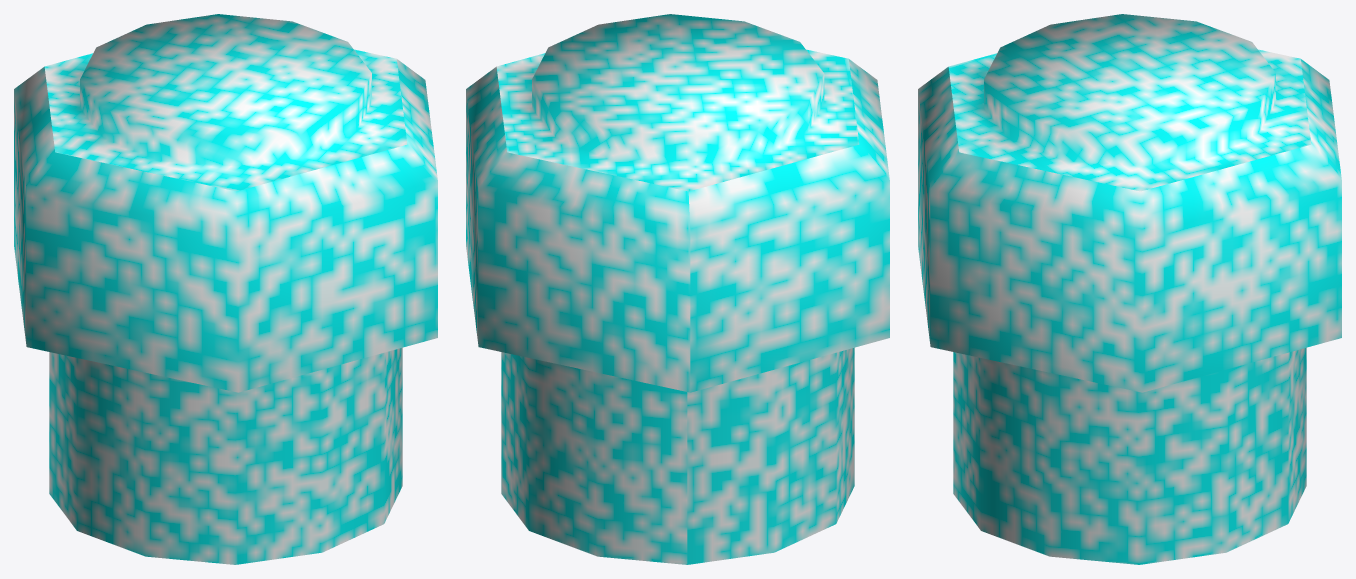
The model's file is SM_Bolt_01_HJS.fbx.
The picture shows the model from 3 angles, left to right: view 1: azimuth 30°, elevation 25°; view 2: azimuth 150°, elevation 25°; view 3: azimuth 270°, elevation 25°; orthographic projection.
Parts seen in each view (by area): view 1: SM_Bolt_01_HJS; view 2: SM_Bolt_01_HJS; view 3: SM_Bolt_01_HJS.
Part boxes in pixels (x1,y1,x2,y2): SM_Bolt_01_HJS: (14,14,437,564); SM_Bolt_01_HJS: (466,14,889,564); SM_Bolt_01_HJS: (918,14,1341,564).
Size of the model in its own units: 8.14 by 7.84 by 7.26.
